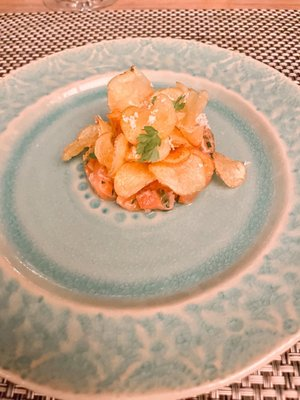curry: (0, 5, 298, 365)
